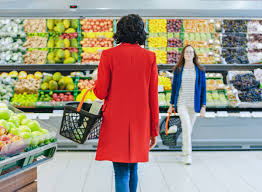Good: (92, 13, 207, 166)
